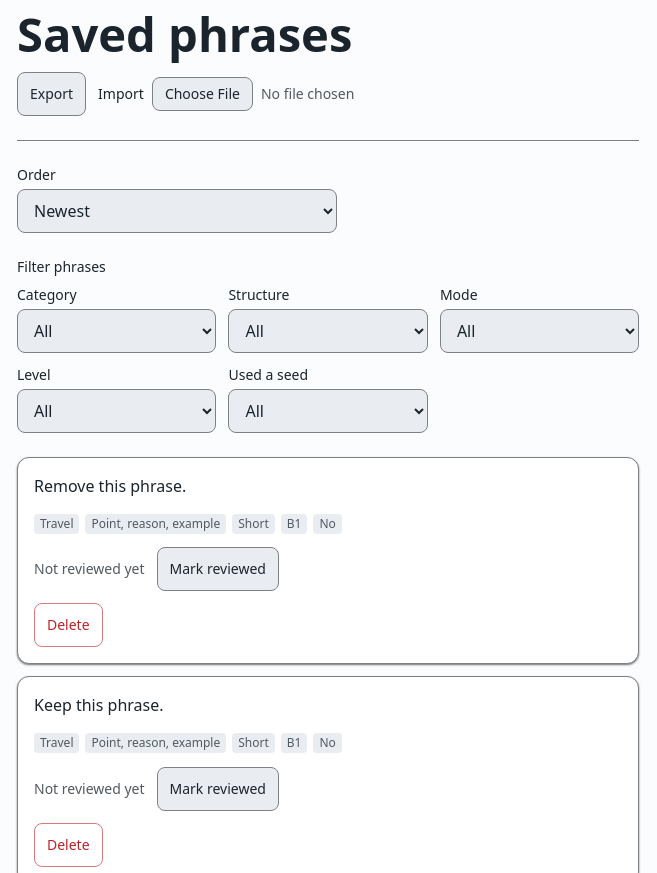
Test case: PhrasesPage › deletes one phrase from the rendered list and persisted state
Expected: the list item "Remove this phrase." is shown, [34,475,186,497]
Click the button "Delete" below "Remove this phrase.": (68, 626) [34,604,103,648]
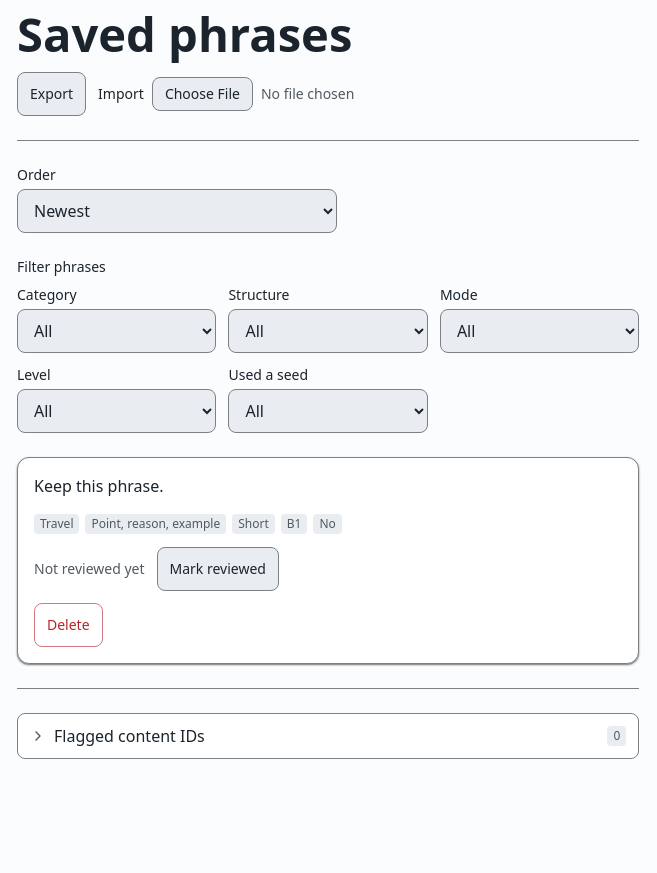
Expected: the text "Keep this phrase." is shown, [34,475,164,497]
Result: the text "Remove this phrase." is gone
